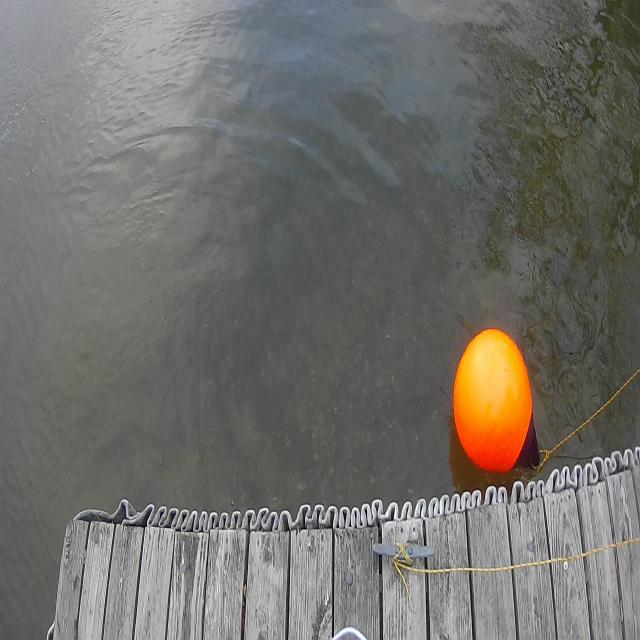Buoy: (452, 326, 533, 475)
